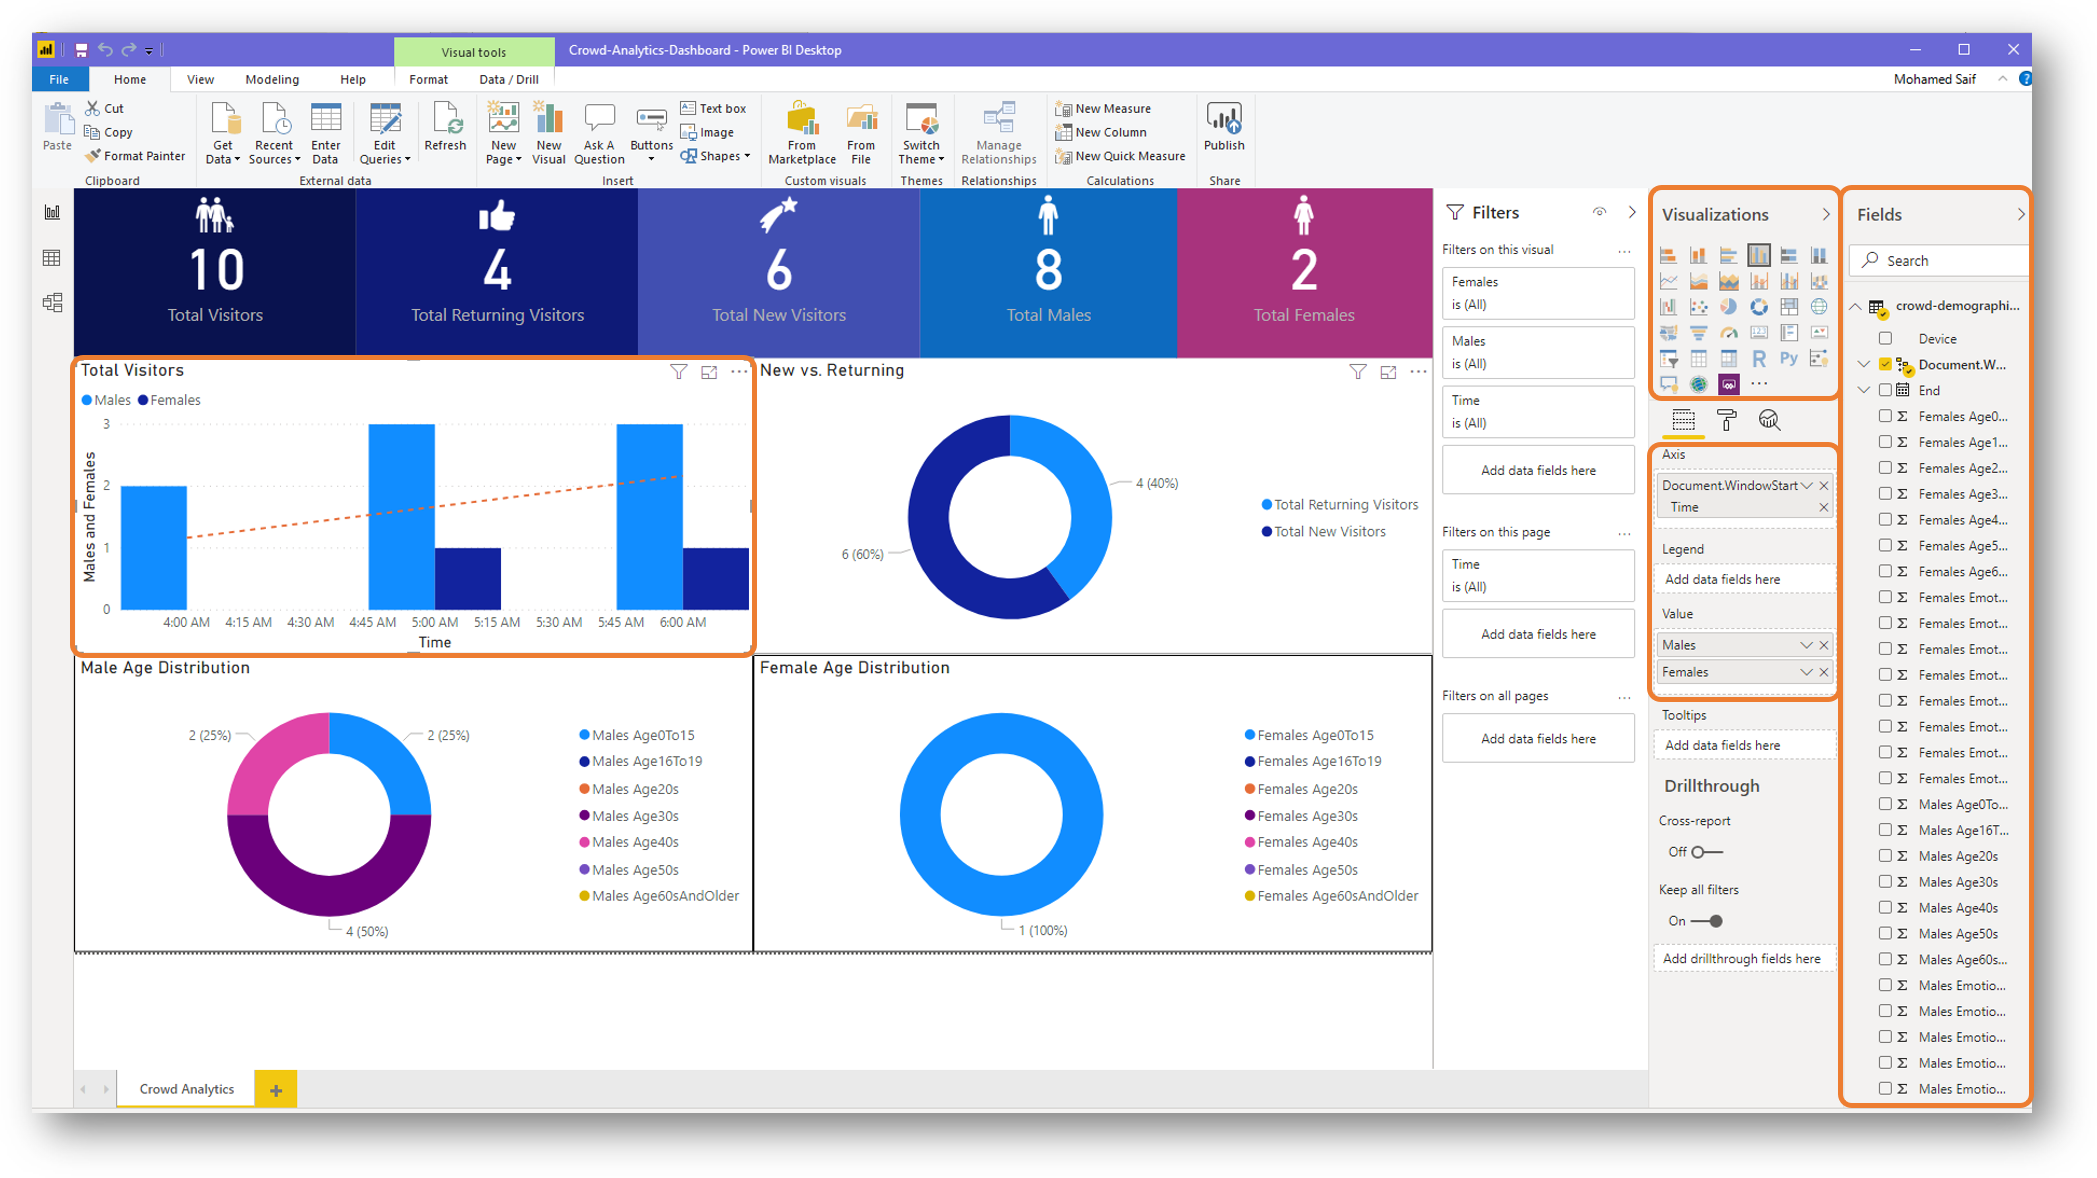

What the dashboard file says about the page in this screenshot:
{"tool":"powerbi","page":{"name":"Crowd Analytics","canvas":[1280,720],"ordinal":0},"visuals":[{"type":"clusteredColumnChart","title":"Total Visitors","fields":{"Category":["crowd-demographics.Document.WindowStart Hierarchy.Document.WindowStart"],"Y":["Sum(crowd-demographics.Total Males)","Sum(crowd-demographics.Document.TotalFemales)"]},"box":[0,159.7,640,280.1],"z":0},{"type":"donutChart","title":"Female Age Distribution","fields":{"Y":["Sum(crowd-demographics.Females Age0To15)","Sum(crowd-demographics.Females Age16To19)","Sum(crowd-demographics.Females Age20s)","Sum(crowd-demographics.Females Age30s)","Sum(crowd-demographics.Females Age40s)","Sum(crowd-demographics.Females Age50s)","Sum(crowd-demographics.Females Age60sAndOlder)"]},"box":[640,439.8,640,280.1],"z":1000},{"type":"donutChart","title":"Male Age Distribution","fields":{"Y":["Sum(crowd-demographics.Males Age0To15)","Sum(crowd-demographics.Males Age16To19)","Sum(crowd-demographics.Males Age20s)","Sum(crowd-demographics.Males Age30s)","Sum(crowd-demographics.Males Age40s)","Sum(crowd-demographics.Males Age50s)","Sum(crowd-demographics.Males Age60sAndOlder)"]},"box":[0,439.8,640,280.1],"z":2000},{"type":"donutChart","title":"New vs. Returning","fields":{"Y":["Sum(crowd-demographics.Total Returning Visitors)","Sum(crowd-demographics.Total New Visitors)"]},"box":[640,159.7,640,280.1],"z":3000},{"type":"card","fields":{"Values":["Sum(crowd-demographics.Total Females)"]},"box":[1038.1,0,241.9,159.7],"z":4000},{"type":"card","fields":{"Values":["Sum(crowd-demographics.Total Returning Visitors)"]},"box":[265.8,0,265.8,159.7],"z":5000},{"type":"card","fields":{"Values":["Sum(crowd-demographics.Total New Visitors)"]},"box":[531.5,0,265.8,159.7],"z":6000},{"type":"card","fields":{"Values":["Sum(crowd-demographics.Total Visitors)"]},"box":[0,0,265.8,159.7],"z":7000},{"type":"card","fields":{"Values":["Sum(crowd-demographics.Total Males)"]},"box":[797.3,0,241.9,159.7],"z":8000},{"type":"image","box":[107.6,0,50.2,50.2],"z":9000},{"type":"image","box":[374.1,0,50.2,50.2],"z":9001},{"type":"image","box":[639.4,0,50.2,50.2],"z":9002},{"type":"image","box":[892.8,0,50.2,50.2],"z":9003},{"type":"image","box":[1134.2,0,50.2,50.2],"z":9004}]}

Visuals, with their boxes on the page's 1280x720 design canvas (x1, y1, x2, y2). These are canvas units, not pixel positions in the 2097x1178 screenshot, which may show the page scaled, cropped or inside an application window:
"Total Visitors" clusteredColumnChart: locate(0, 160, 640, 440)
"Female Age Distribution" donutChart: locate(640, 440, 1280, 720)
"Male Age Distribution" donutChart: locate(0, 440, 640, 720)
"New vs. Returning" donutChart: locate(640, 160, 1280, 440)
card - Sum(crowd-demographics.Total Females): locate(1038, 0, 1280, 160)
card - Sum(crowd-demographics.Total Returning Visitors): locate(266, 0, 532, 160)
card - Sum(crowd-demographics.Total New Visitors): locate(532, 0, 797, 160)
card - Sum(crowd-demographics.Total Visitors): locate(0, 0, 266, 160)
card - Sum(crowd-demographics.Total Males): locate(797, 0, 1039, 160)
image: locate(108, 0, 158, 50)
image: locate(374, 0, 424, 50)
image: locate(639, 0, 690, 50)
image: locate(893, 0, 943, 50)
image: locate(1134, 0, 1184, 50)
